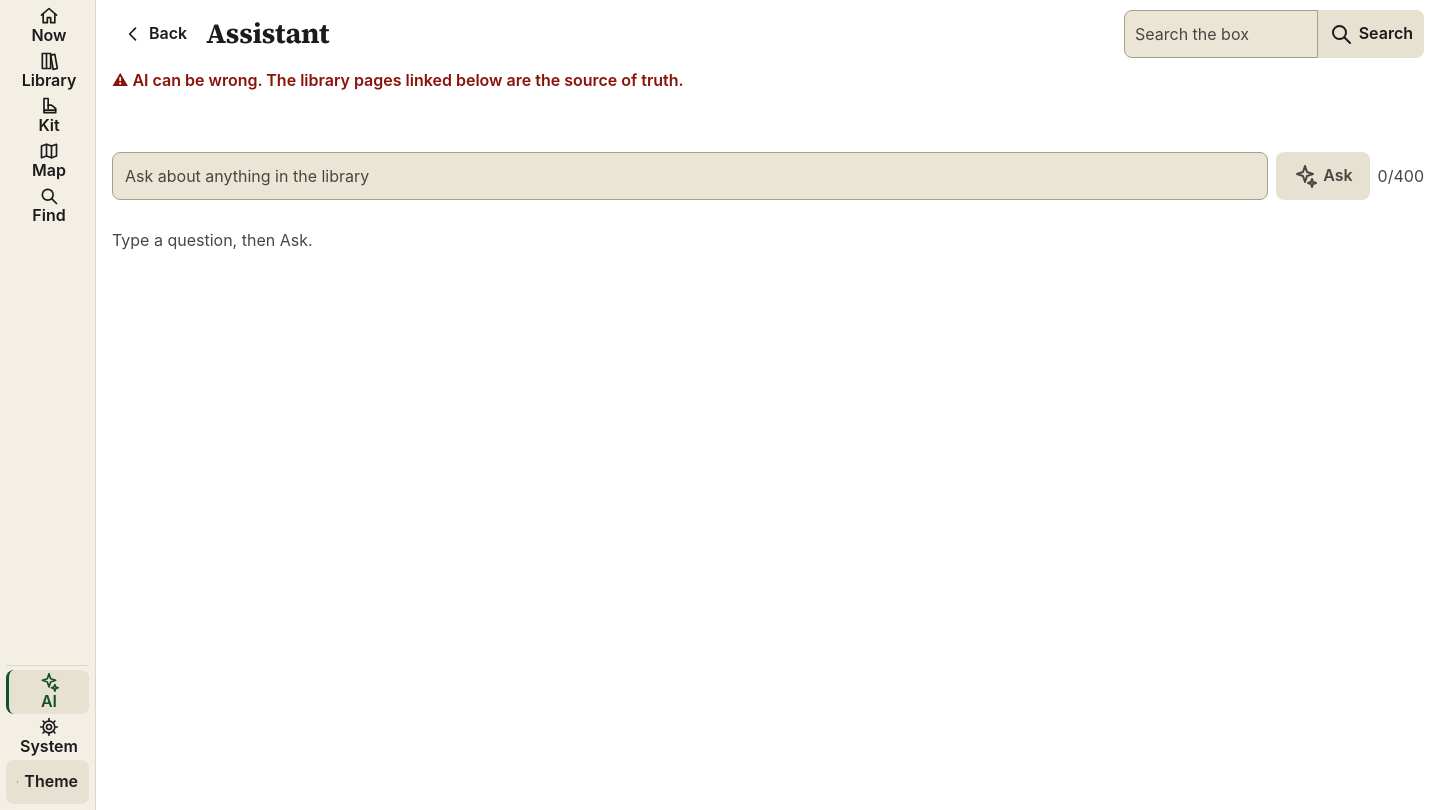
Test: Ai screen › explains busy, timeout and transport errors
Type "a" into the field named "Your question" at x=690, y=176, box [112, 152, 1268, 200]
Then press Enter
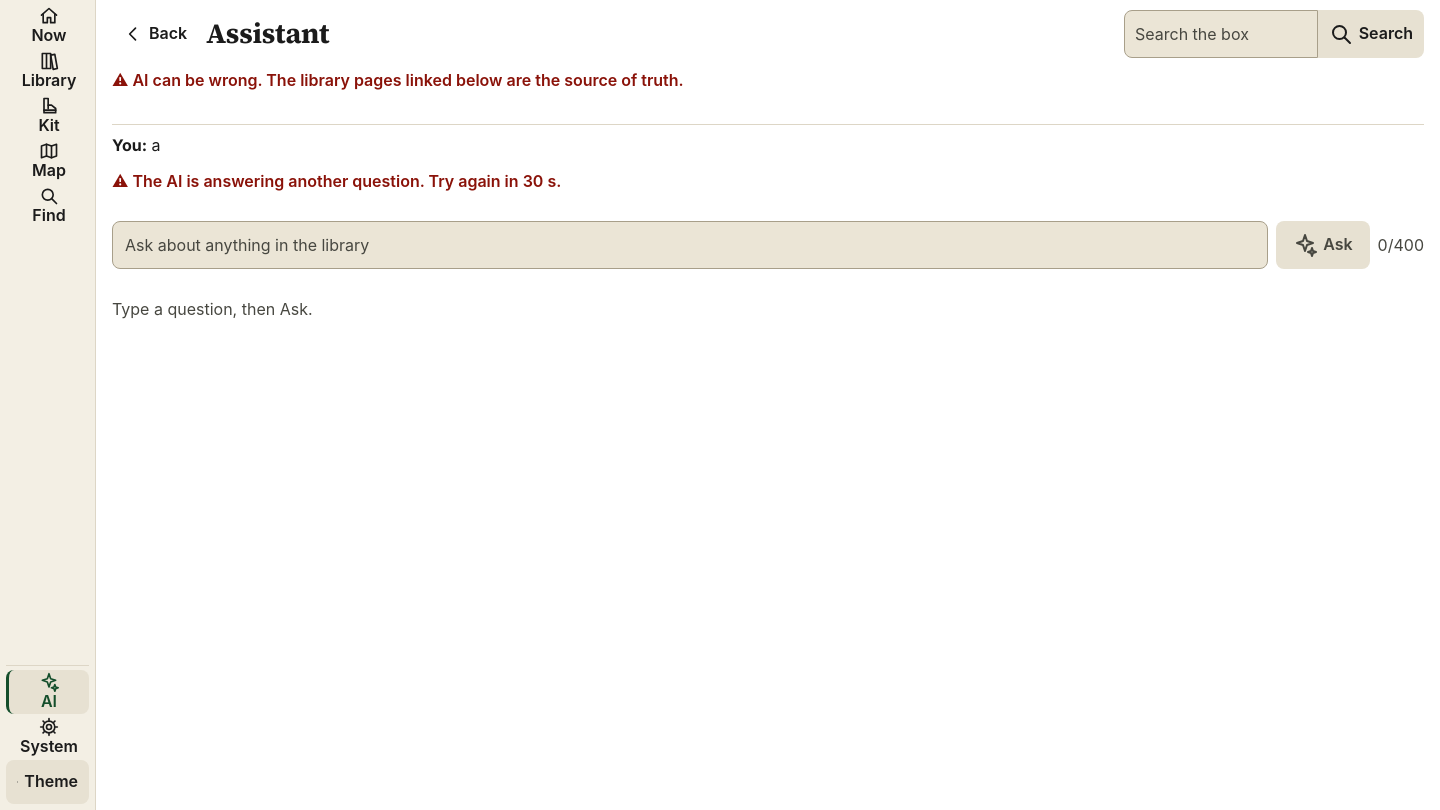
Check: the text "The AI is answering another question. Try again in 30 s." is shown, box [132, 171, 561, 191]
Type "b" into the field named "Your question" at x=690, y=245, box [112, 221, 1268, 269]
Then press Enter
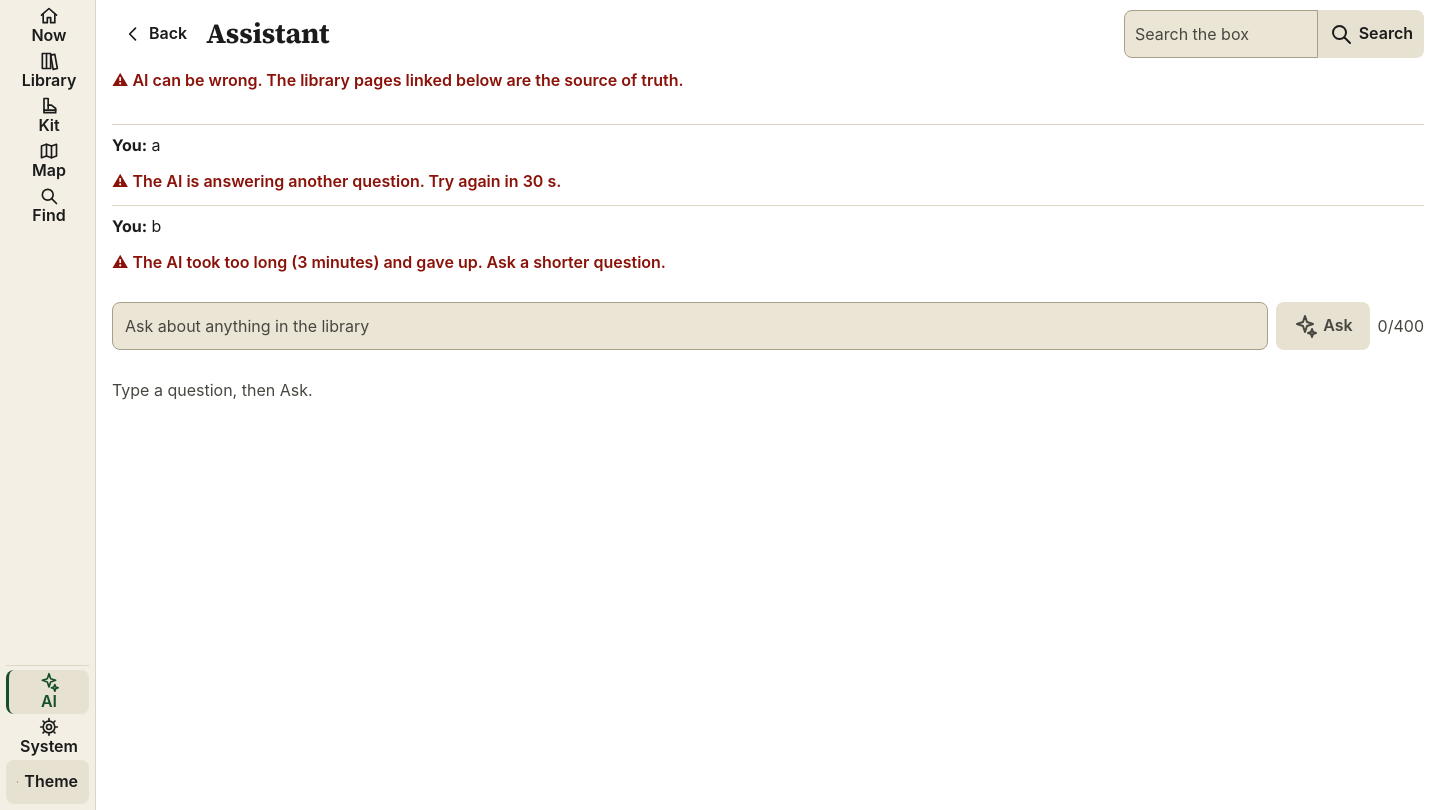
Check: the text "took too long" is shown, box [132, 252, 666, 272]
Type "c" into the field named "Your question" at x=690, y=326, box [112, 302, 1268, 350]
Then press Enter
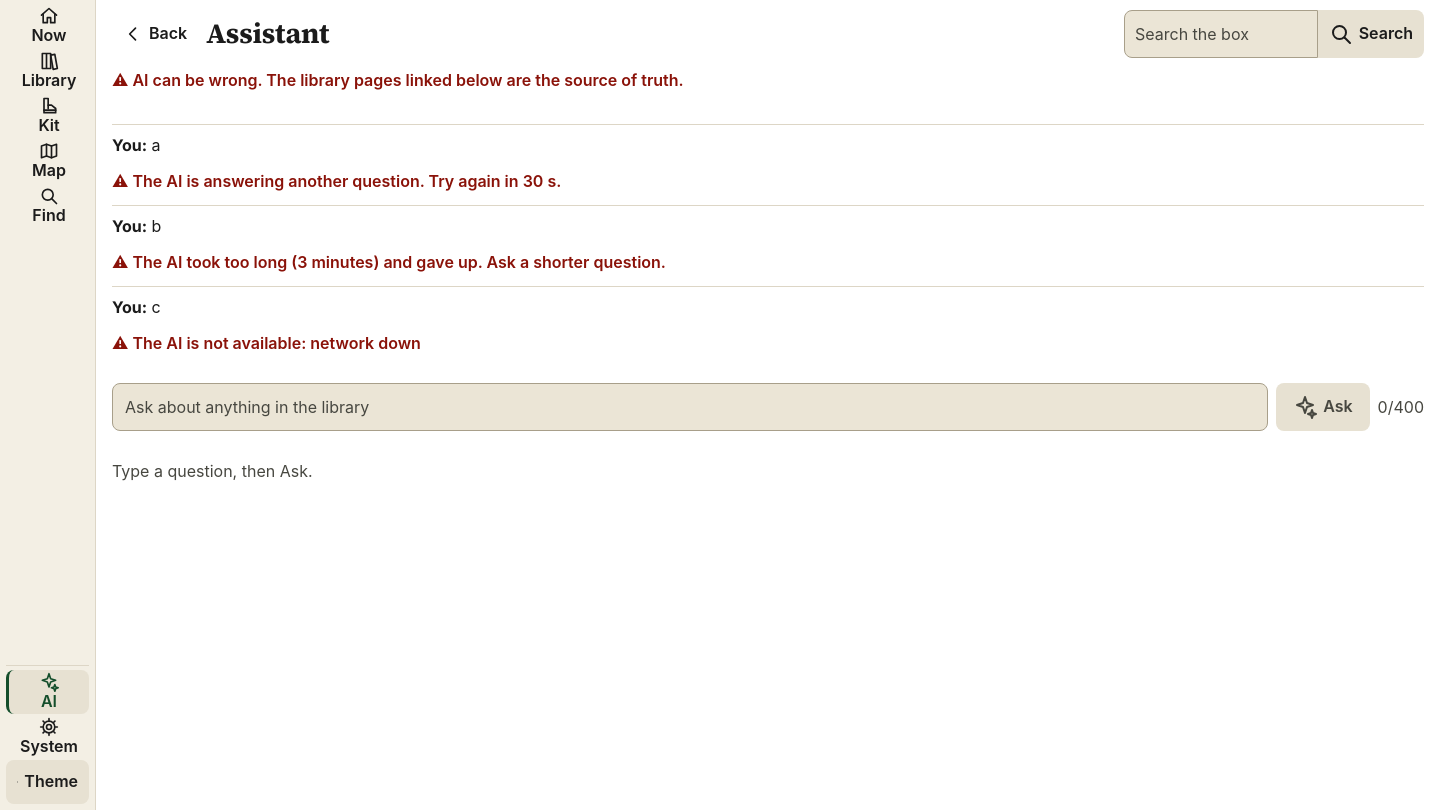
Check: the text "The AI is not available: network down" is shown, box [132, 333, 421, 353]
